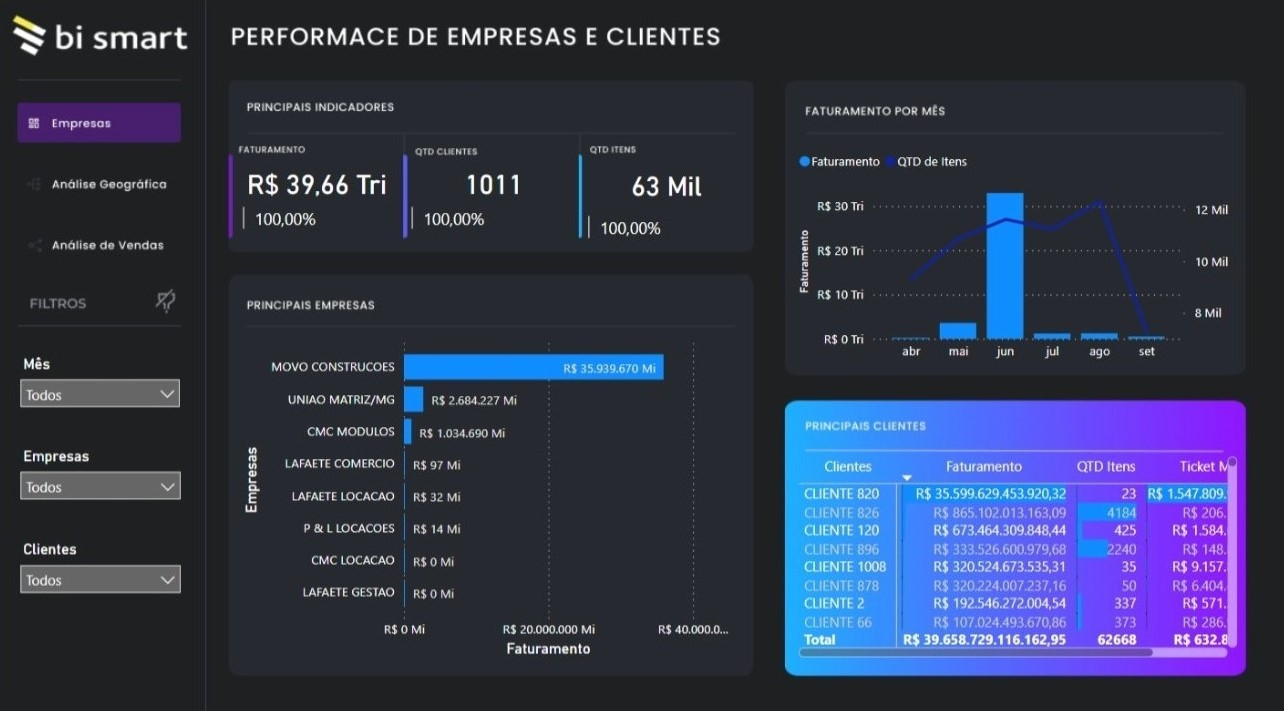

Layout of this report page (visuals, bound fields, positions):
{"tool":"powerbi","page":{"name":"CompanyxCustomer","canvas":[1280,720],"ordinal":0},"visuals":[{"type":"slicer","fields":{"Values":["D_calendario.Date.Variation.Hierarquia de datas.Mês"]},"box":[16.7,351.1,177.3,72.6],"z":0},{"type":"pivotTable","fields":{"Rows":["Base de Dados.CUSTOMER_NAME"],"Values":["_Medidas._Total_Faturamento","_Medidas._Total_Items","_Medidas._Ticket_Médio"]},"box":[788.6,451.4,441.4,207.1],"z":1000},{"type":"card","fields":{"Values":["Sum(Base de Dados.TOTAL_VALUE)"]},"box":[231.9,169.2,174.1,35.3],"z":2000},{"type":"card","fields":{"Values":["Count(Base de Dados.CUSTOMER_NAME)"]},"box":[405.9,169.2,174.1,35.3],"z":3000},{"type":"card","fields":{"Values":["Sum(Base de Dados.ITEM_QUANTITY)"]},"box":[580,170.4,166.8,35.3],"z":4000},{"type":"lineStackedColumnComboChart","fields":{"Y":["Sum(Base de Dados.TOTAL_VALUE)"],"Y2":["Sum(Base de Dados.ITEM_QUANTITY)"],"Category":["D_calendario.Nome do Mês Reduzido"]},"box":[788.6,145.7,432.9,224.3],"z":5000},{"type":"barChart","fields":{"Category":["Base de Dados.COMPANY_NAME"],"Y":["Sum(Base de Dados.TOTAL_VALUE)"]},"box":[241.4,330,488.6,328.6],"z":6000},{"type":"slicer","fields":{"Values":["Base de Dados.COMPANY_NAME"]},"box":[17,441.8,177.7,71.8],"z":7000},{"type":"slicer","fields":{"Values":["Base de Dados.CUSTOMER_NAME"]},"box":[17,534.4,177.7,71.8],"z":8000},{"type":"multiRowCard","fields":{"Values":["_Medidas.%Faturamento_Total"]},"box":[241.4,205.7,117.1,35.7],"z":9000},{"type":"multiRowCard","fields":{"Values":["_Medidas.%Cliente_Total"]},"box":[407.1,205.7,118.6,35.7],"z":10000},{"type":"multiRowCard","fields":{"Values":["_Medidas.%Item_Total"]},"box":[580.8,214.3,118.6,35.7],"z":11000},{"type":"shape","box":[27.1,108.6,157.1,37.1],"z":12000},{"type":"shape","box":[27.1,168.6,157.1,37.1],"z":13000},{"type":"shape","box":[27.1,231.4,157.1,37.1],"z":14000}]}

Visuals, with their boxes in screenshot pixels (x1, y1, x2, y2), scaled from the page's 1280x720 canvas onto the 1284x711 screenshot:
slicer - D_calendario.Date.Variation.Hierarquia de datas.Mês: 17 347 195 418
pivotTable - Base de Dados.CUSTOMER_NAME x _Medidas._Total_Faturamento: 791 446 1234 650
card - Sum(Base de Dados.TOTAL_VALUE): 233 167 407 202
card - Count(Base de Dados.CUSTOMER_NAME): 407 167 582 202
card - Sum(Base de Dados.ITEM_QUANTITY): 582 168 749 203
lineStackedColumnComboChart - Sum(Base de Dados.TOTAL_VALUE) x Sum(Base de Dados.ITEM_QUANTITY): 791 144 1225 365
barChart - Base de Dados.COMPANY_NAME x Sum(Base de Dados.TOTAL_VALUE): 242 326 732 650
slicer - Base de Dados.COMPANY_NAME: 17 436 195 507
slicer - Base de Dados.CUSTOMER_NAME: 17 528 195 599
multiRowCard - _Medidas.%Faturamento_Total: 242 203 360 238
multiRowCard - _Medidas.%Cliente_Total: 408 203 527 238
multiRowCard - _Medidas.%Item_Total: 583 212 702 247
shape: 27 107 185 144
shape: 27 166 185 203
shape: 27 229 185 265
